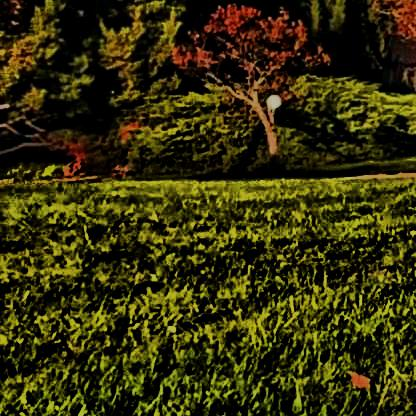golfball: (263, 91, 280, 106)
